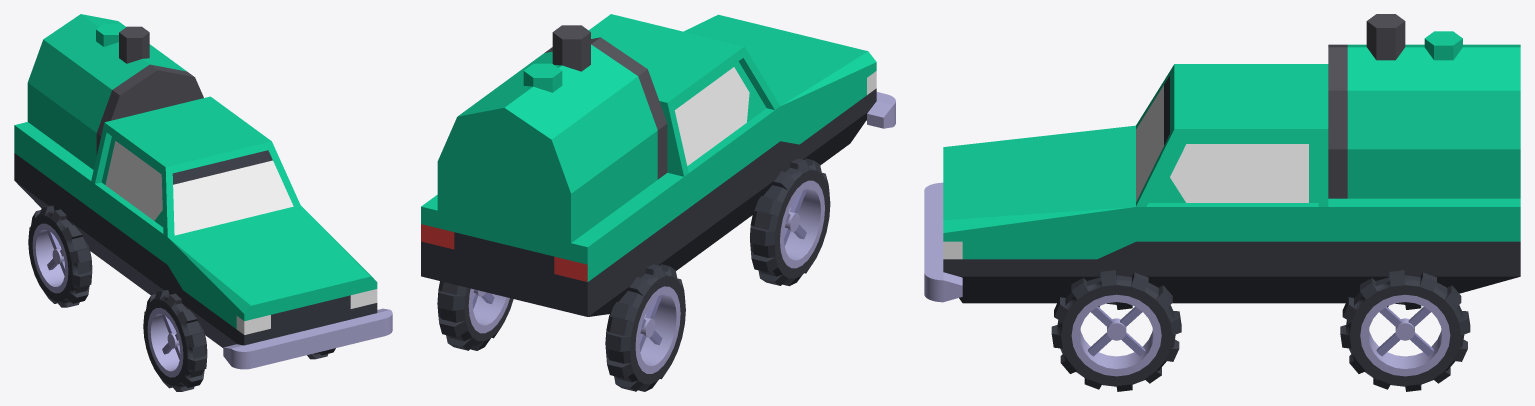
The model's file is Barrel.fbx.
The picture shows the model from 3 angles, left to right: view 1: azimuth 30°, elevation 25°; view 2: azimuth 150°, elevation 25°; view 3: azimuth 270°, elevation 25°; orthographic projection. The views are drawn at different scales.
Visible parts, largest first — view 1: body_frontLarge, body_topSteep, steam_engine, wheel_cycleDirt (×2), body_standard, body_backSolid, bumper; view 2: steam_engine, body_backSolid, wheel_cycleDirt (×3), body_topSteep, body_frontLarge, body_standard, bumper; view 3: steam_engine, body_frontLarge, body_topSteep, wheel_cycleDirt (×2), body_standard, body_backSolid, bumper.
Boxes of the visible parts, left/top/right/bottom form: body_frontLarge: left=167, top=205, right=377, bottom=347; body_topSteep: left=91, top=96, right=300, bottom=237; steam_engine: left=27, top=14, right=203, bottom=169; wheel_cycleDirt (×2): left=28, top=205, right=207, bottom=391; body_standard: left=91, top=181, right=167, bottom=295; body_backSolid: left=14, top=122, right=103, bottom=260; bumper: left=223, top=308, right=392, bottom=369; steam_engine: left=437, top=25, right=667, bottom=242; body_backSolid: left=421, top=173, right=683, bottom=316; wheel_cycleDirt (×3): left=437, top=158, right=830, bottom=391; body_topSteep: left=589, top=14, right=780, bottom=176; body_frontLarge: left=684, top=14, right=876, bottom=171; body_standard: left=673, top=107, right=780, bottom=270; bumper: left=866, top=92, right=895, bottom=128; steam_engine: left=1328, top=14, right=1520, bottom=198; body_frontLarge: left=943, top=125, right=1135, bottom=303; body_topSteep: left=1136, top=64, right=1328, bottom=206; wheel_cycleDirt (×2): left=1051, top=270, right=1470, bottom=391; body_standard: left=1136, top=203, right=1328, bottom=303; body_backSolid: left=1328, top=198, right=1520, bottom=303; bumper: left=924, top=182, right=962, bottom=302.
Size of the model in its own units: 12 by 18.71 by 31.
